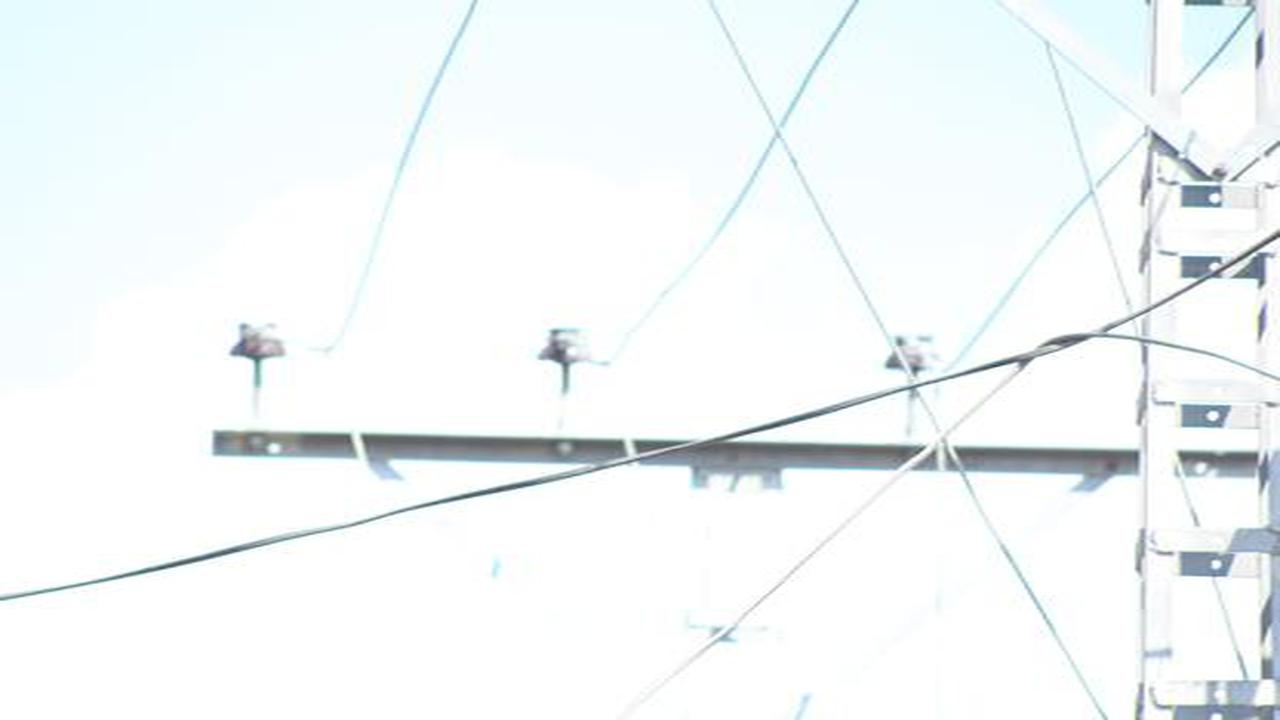insulator_pin: (881, 331, 944, 381), (533, 326, 600, 373), (228, 317, 288, 366)
